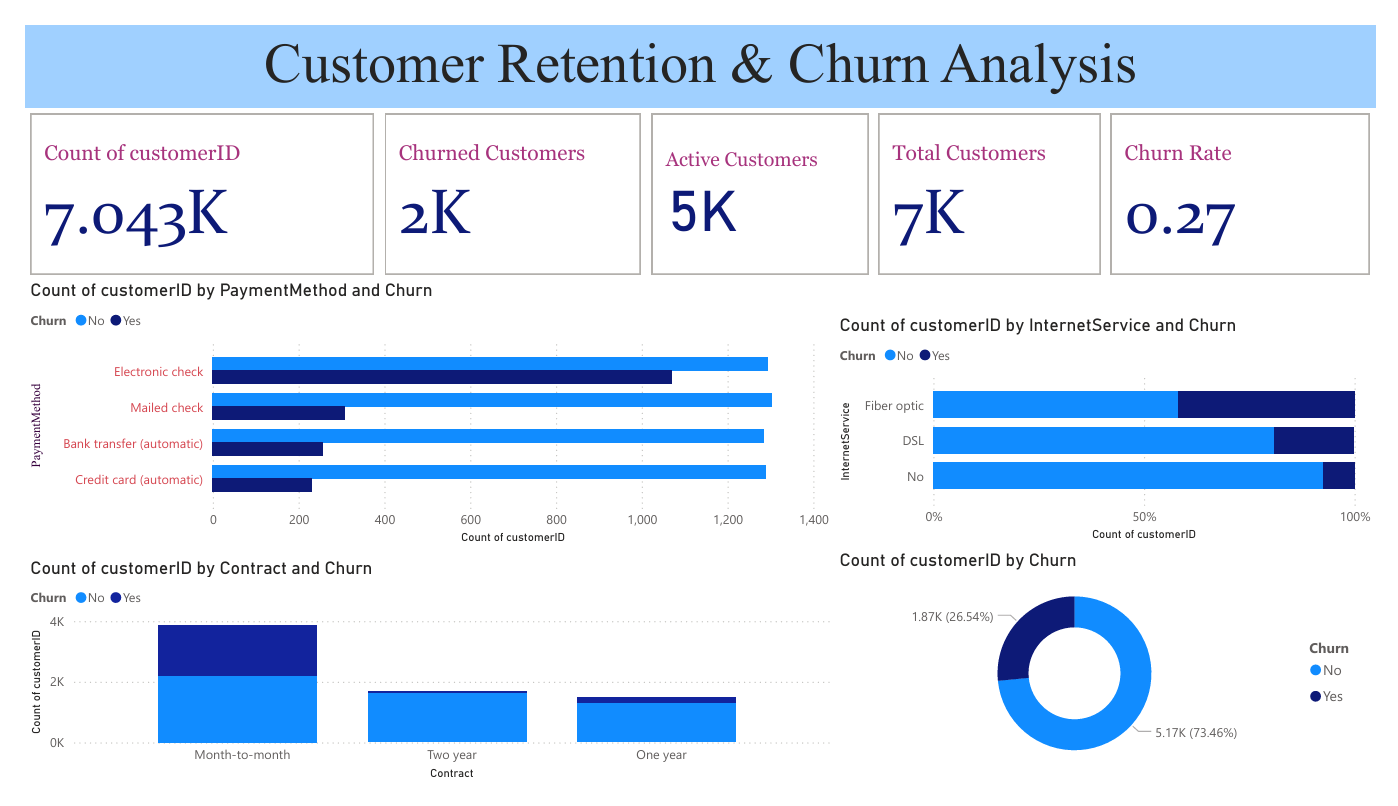

What the dashboard file says about the page in this screenshot:
{"tool":"powerbi","page":{"name":"Page 1","canvas":[1280,720],"ordinal":0},"visuals":[{"type":"cardVisual","fields":{"Data":["CountNonNull(WA_Fn-UseC_-Telco-Customer-Churn.customerID)"]},"box":[0,78.6,335.7,162.9],"z":0},{"type":"textbox","box":[0,0,1280.3,78.2],"z":1000},{"type":"cardVisual","fields":{"Data":["WA_Fn-UseC_-Telco-Customer-Churn.Churned Customers"]},"box":[335.7,78.6,252.9,162.9],"z":2000},{"type":"cardVisual","fields":{"Data":["WA_Fn-UseC_-Telco-Customer-Churn.Active Customers"]},"box":[588.6,78.6,215.7,162.9],"z":3000},{"type":"cardVisual","fields":{"Data":["WA_Fn-UseC_-Telco-Customer-Churn.Total Customers"]},"box":[804.3,78.6,220,162.9],"z":4000},{"type":"cardVisual","fields":{"Data":["WA_Fn-UseC_-Telco-Customer-Churn.Churn Rate"]},"box":[1024.3,78.6,255.7,162.9],"z":5000},{"type":"donutChart","fields":{"Category":["WA_Fn-UseC_-Telco-Customer-Churn.Churn"],"Y":["CountNonNull(WA_Fn-UseC_-Telco-Customer-Churn.customerID)"]},"box":[767.1,497.1,512.9,215.7],"z":6000},{"type":"columnChart","fields":{"Category":["WA_Fn-UseC_-Telco-Customer-Churn.Contract"],"Y":["CountNonNull(WA_Fn-UseC_-Telco-Customer-Churn.customerID)"],"Series":["WA_Fn-UseC_-Telco-Customer-Churn.Churn"]},"box":[0,504.3,767.1,215.7],"z":7000},{"type":"hundredPercentStackedBarChart","fields":{"Category":["WA_Fn-UseC_-Telco-Customer-Churn.InternetService"],"Y":["CountNonNull(WA_Fn-UseC_-Telco-Customer-Churn.customerID)"],"Series":["WA_Fn-UseC_-Telco-Customer-Churn.Churn"]},"box":[767.1,274.3,512.9,220],"z":8000},{"type":"clusteredBarChart","fields":{"Category":["WA_Fn-UseC_-Telco-Customer-Churn.PaymentMethod"],"Y":["CountNonNull(WA_Fn-UseC_-Telco-Customer-Churn.customerID)"],"Series":["WA_Fn-UseC_-Telco-Customer-Churn.Churn"]},"box":[0,241.4,767.1,255.7],"z":9000}]}

Visuals, with their boxes in screenshot pixels (x1, y1, x2, y2), scaled from the page's 1280x720 canvas onto the 1398x806 screenshot:
cardVisual - CountNonNull(WA_Fn-UseC_-Telco-Customer-Churn.customerID): bbox=[0, 88, 367, 270]
textbox: bbox=[0, 0, 1397, 88]
cardVisual - WA_Fn-UseC_-Telco-Customer-Churn.Churned Customers: bbox=[367, 88, 643, 270]
cardVisual - WA_Fn-UseC_-Telco-Customer-Churn.Active Customers: bbox=[643, 88, 878, 270]
cardVisual - WA_Fn-UseC_-Telco-Customer-Churn.Total Customers: bbox=[878, 88, 1119, 270]
cardVisual - WA_Fn-UseC_-Telco-Customer-Churn.Churn Rate: bbox=[1119, 88, 1397, 270]
donutChart - WA_Fn-UseC_-Telco-Customer-Churn.Churn x CountNonNull(WA_Fn-UseC_-Telco-Customer-Churn.customerID): bbox=[838, 556, 1397, 798]
columnChart - WA_Fn-UseC_-Telco-Customer-Churn.Contract x CountNonNull(WA_Fn-UseC_-Telco-Customer-Churn.customerID): bbox=[0, 565, 838, 805]
hundredPercentStackedBarChart - WA_Fn-UseC_-Telco-Customer-Churn.InternetService x CountNonNull(WA_Fn-UseC_-Telco-Customer-Churn.customerID): bbox=[838, 307, 1397, 553]
clusteredBarChart - WA_Fn-UseC_-Telco-Customer-Churn.PaymentMethod x CountNonNull(WA_Fn-UseC_-Telco-Customer-Churn.customerID): bbox=[0, 270, 838, 556]
